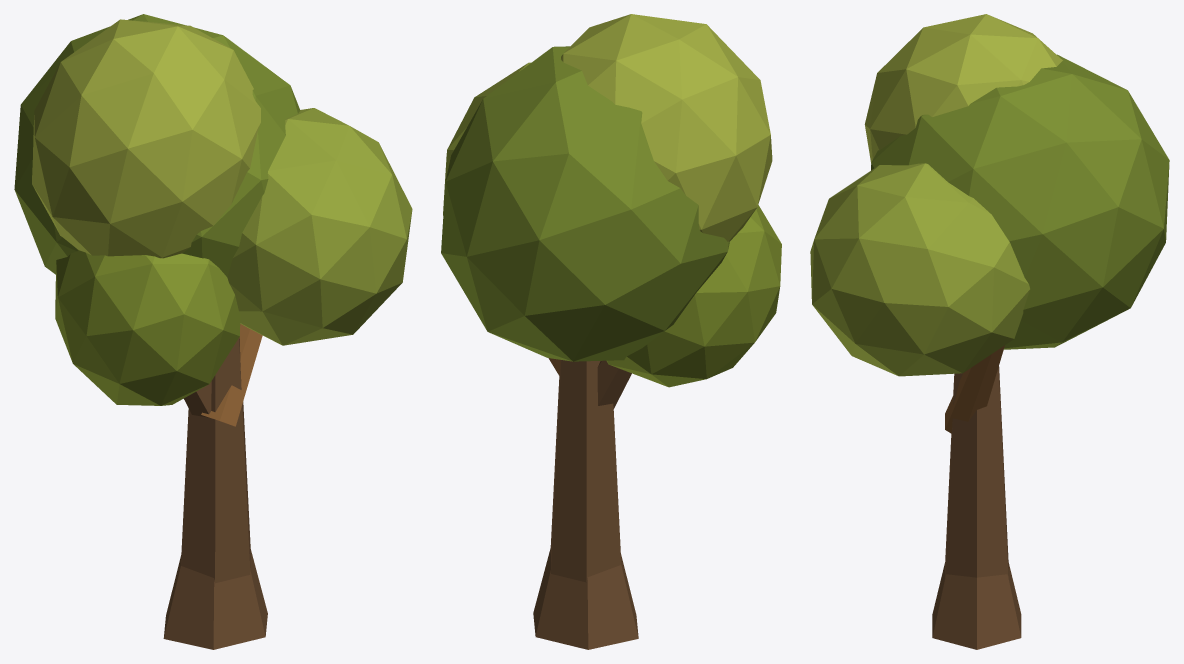
File: tree-canopy-3.gltf
3 views of the same model, side by side, from view 1: azimuth 30°, elevation 25°; view 2: azimuth 150°, elevation 25°; view 3: azimuth 270°, elevation 25° (orthographic). The views are drawn at different scales.
Visible parts, largest first — view 1: tree-canopy-3; view 2: tree-canopy-3; view 3: tree-canopy-3.
Boxes of the visible parts, bbox=[...] form: tree-canopy-3: bbox=[14, 14, 412, 649]; tree-canopy-3: bbox=[441, 14, 781, 649]; tree-canopy-3: bbox=[810, 14, 1169, 649].
Size of the model in its own units: 1.01 by 1.86 by 1.06.
